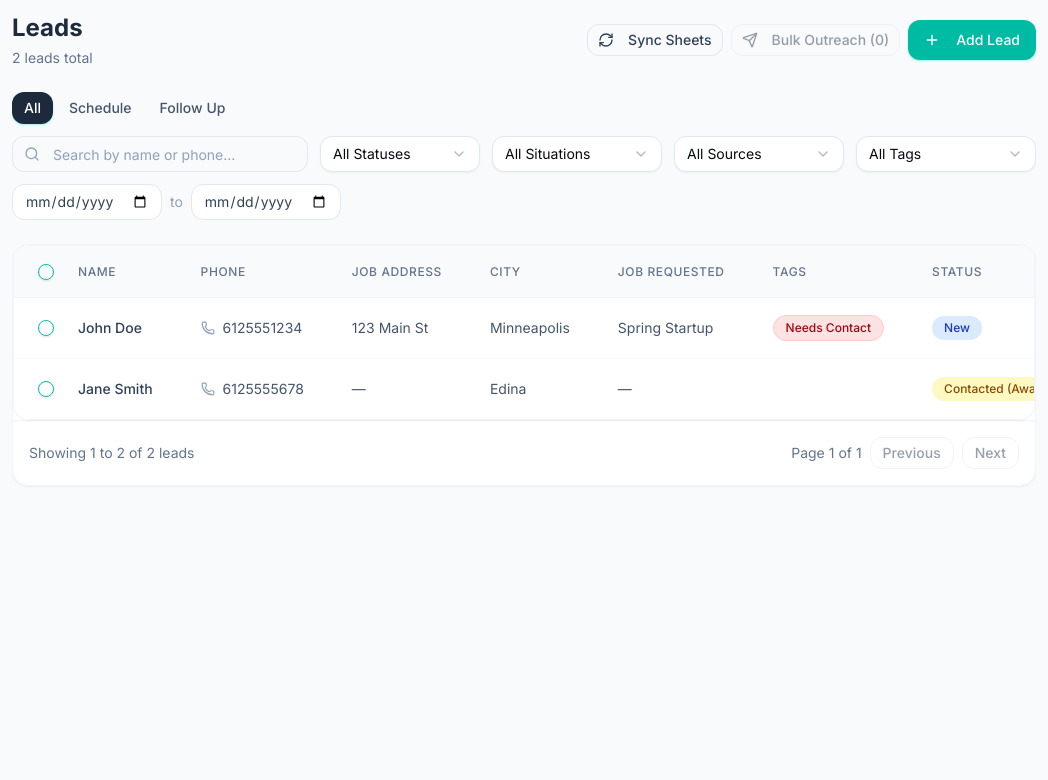
Test: LeadsList › bulk select and Text Selected › shows bulk-action bar when a row is checked
Click the checkbox named "Select John Doe". click: (46, 328)
box: top-left (38, 320), bottom-right (54, 336)
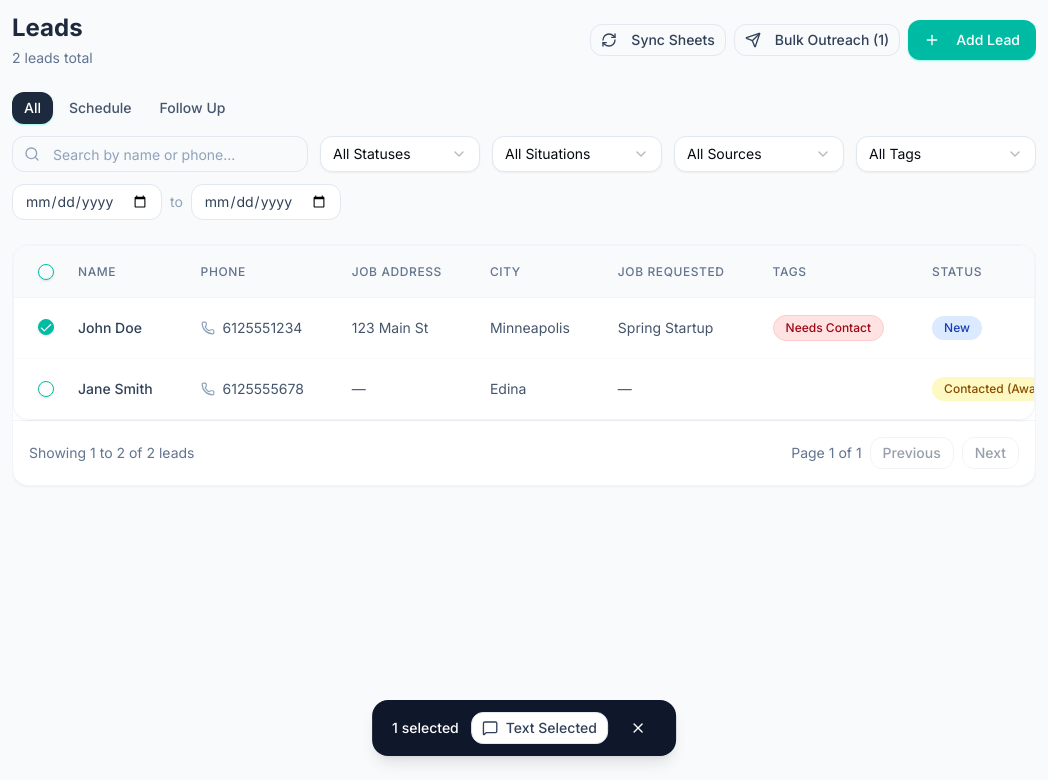
Now the element with test id "bulk-action-bar" is shown, box top-left (372, 700), bottom-right (676, 756)
Now the text with test id "selected-count" reads "1 selected", box top-left (392, 718), bottom-right (459, 738)
